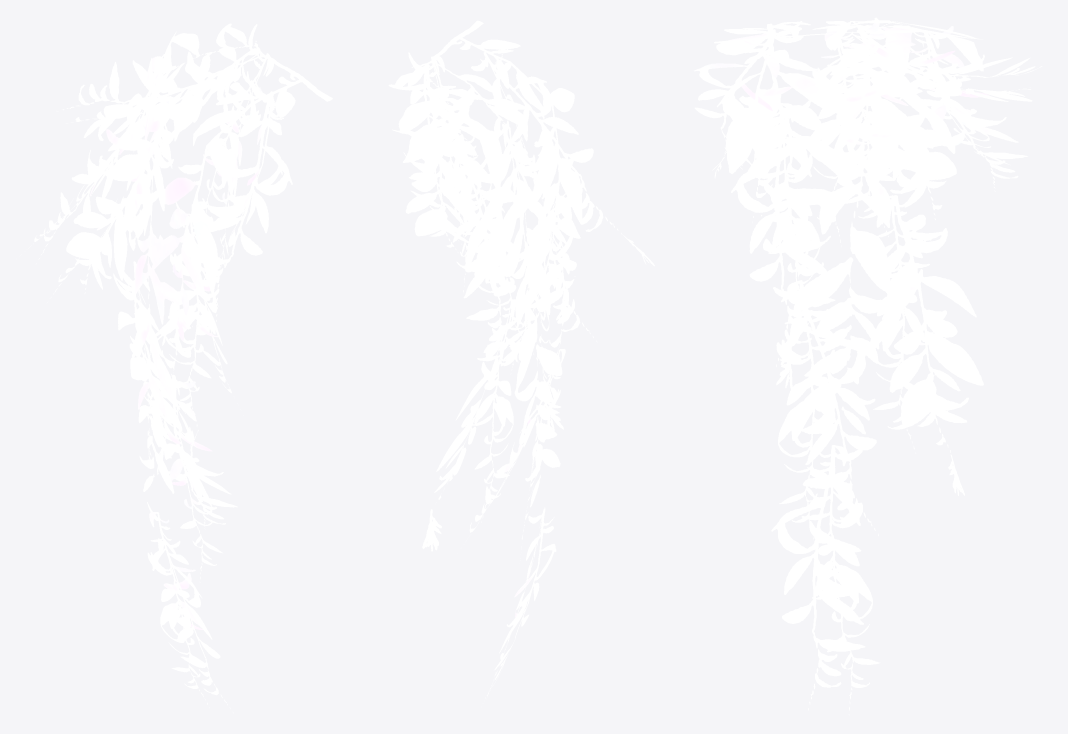
3 views of the same model, side by side, from view 1: azimuth 30°, elevation 25°; view 2: azimuth 150°, elevation 25°; view 3: azimuth 270°, elevation 25° (orthographic). The views are drawn at different scales.
Parts seen in each view (by area): view 1: SM_FH_Climbing_A_04_LOD0; view 2: SM_FH_Climbing_A_04_LOD0; view 3: SM_FH_Climbing_A_04_LOD0.
Boxes of the visible parts, x1=… form: SM_FH_Climbing_A_04_LOD0: x1=20, y1=23, x2=332, y2=713; SM_FH_Climbing_A_04_LOD0: x1=388, y1=20, x2=654, y2=698; SM_FH_Climbing_A_04_LOD0: x1=694, y1=17, x2=1042, y2=715.
Size of the model in its own units: 0.7546 by 2.21 by 1.
1 material, 1 textured.
